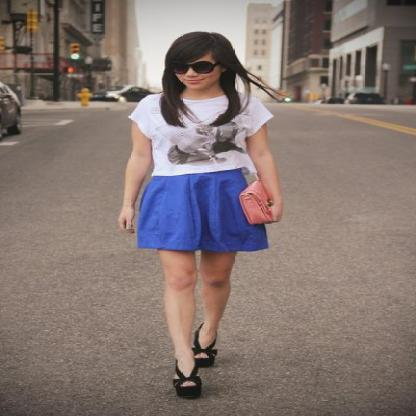bag: (239, 187, 273, 223)
shirt: (128, 93, 273, 175)
shoe: (173, 354, 216, 400)
skirt: (137, 167, 277, 252)
sunglass: (188, 51, 218, 73)
